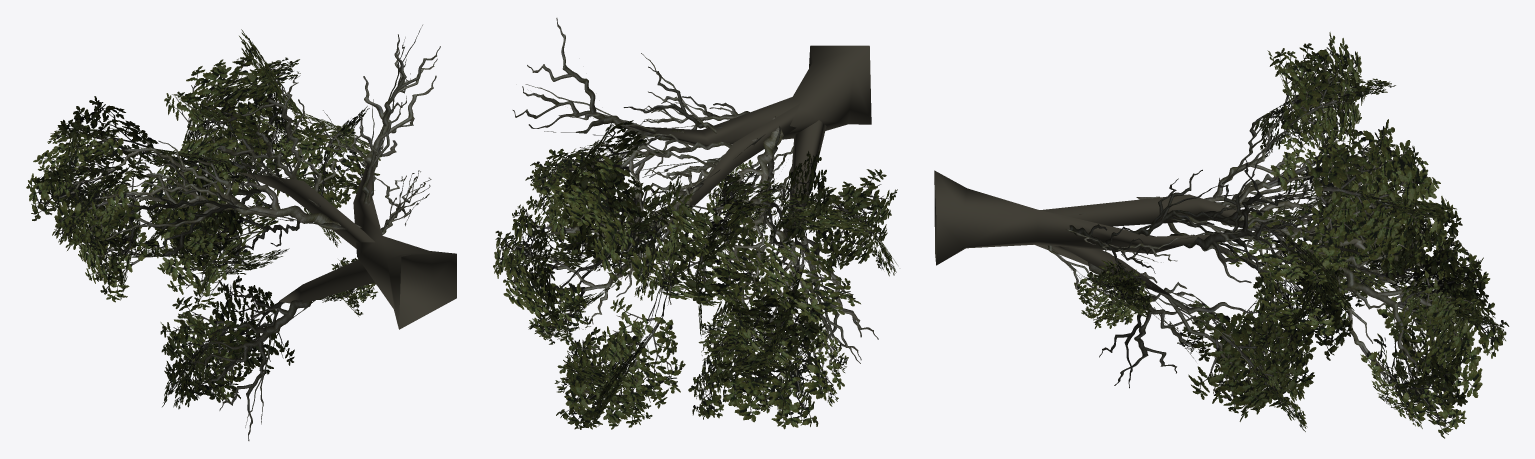
Rendered from MEP_Oak_04_LOD_01.fbx.
3 views of the same model, side by side, from view 1: azimuth 30°, elevation 25°; view 2: azimuth 150°, elevation 25°; view 3: azimuth 270°, elevation 25° (orthographic). The views are drawn at different scales.
Parts seen in each view (by area): view 1: MEP_Oak_04_LOD_01; view 2: MEP_Oak_04_LOD_01; view 3: MEP_Oak_04_LOD_01.
Boxes of the visible parts, x1,y1,x2,y2 form: MEP_Oak_04_LOD_01: (26, 25, 456, 440); MEP_Oak_04_LOD_01: (493, 18, 897, 429); MEP_Oak_04_LOD_01: (934, 32, 1509, 438).
Bounding box in the file's own units: 14.44 × 12.08 × 16.48.
